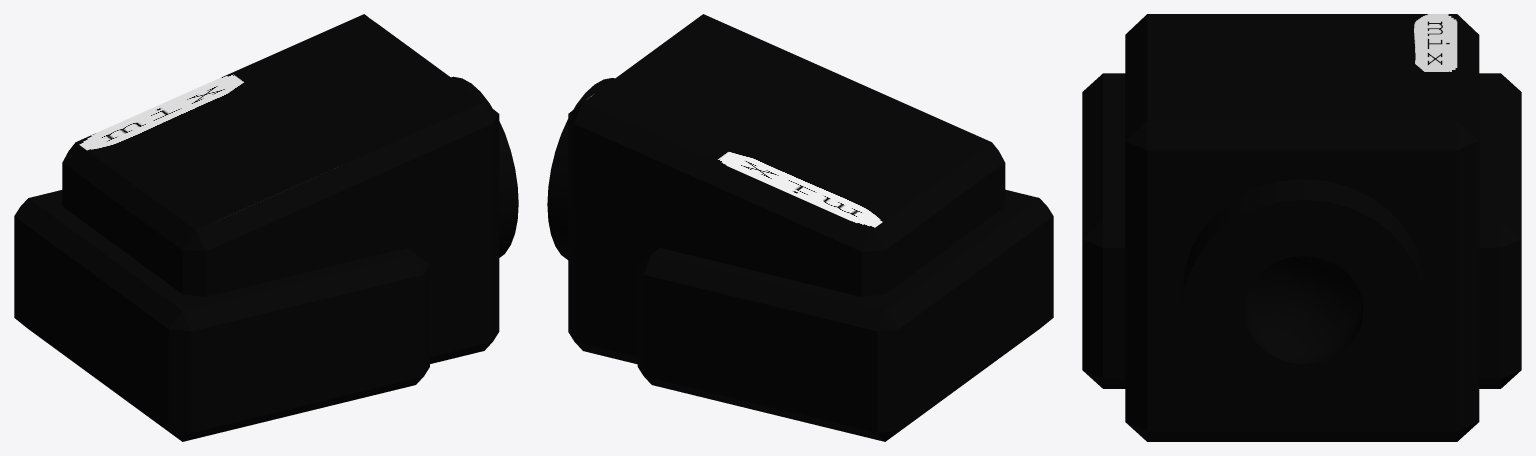
Rendered from emitter.glb.
3 views of the same model, side by side, from view 1: azimuth 30°, elevation 25°; view 2: azimuth 150°, elevation 25°; view 3: azimuth 270°, elevation 25° (orthographic). The views are drawn at different scales.
Parts seen in each view (by area): view 1: Emitter; view 2: Emitter; view 3: Emitter.
Boxes of the visible parts, x1,y1,x2,y2 form: Emitter: [14, 14, 518, 441]; Emitter: [547, 14, 1053, 441]; Emitter: [1082, 14, 1521, 441].
Bounding box in the file's own units: 0.9608 × 0.6016 × 0.7446.
Materials: 1 (1 with a texture image).
